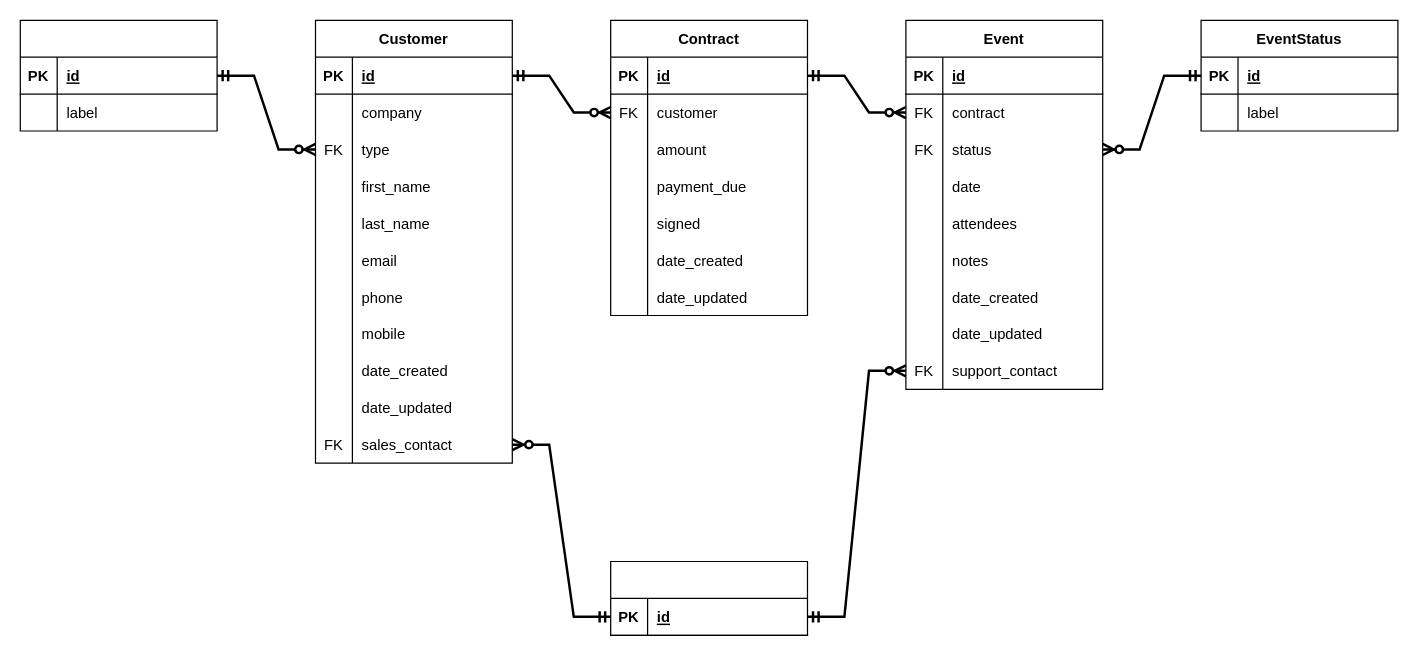
This 1418x656 diagram has some shape labels left out. Each missing label, with the box of its shape:
CustomerType: (19, 19, 217, 131)
User (AbstractUser django): (609, 560, 807, 635)
